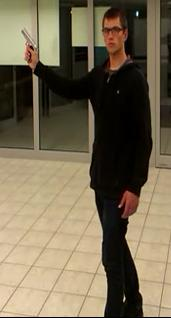pistol: (20, 26, 39, 68)
